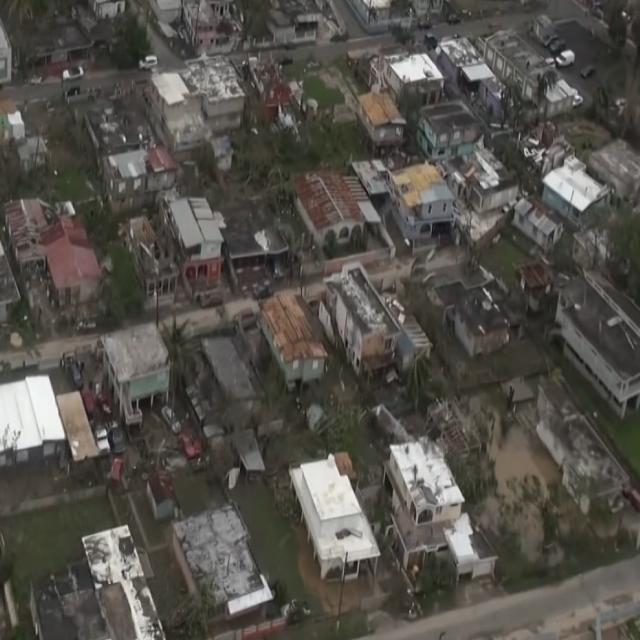flood: (471, 398, 557, 562)
house: (382, 428, 477, 592), (165, 501, 272, 634), (538, 378, 632, 510), (291, 448, 380, 586), (556, 274, 640, 420), (420, 103, 519, 207), (78, 522, 160, 640), (290, 165, 385, 262), (156, 56, 245, 155), (100, 318, 174, 433), (332, 262, 399, 374), (260, 287, 330, 392), (1, 372, 67, 479), (167, 190, 227, 302), (434, 268, 512, 354), (392, 158, 458, 249), (484, 28, 559, 102), (46, 218, 104, 312), (546, 162, 610, 226), (386, 54, 446, 112), (358, 92, 409, 152), (516, 192, 564, 252), (4, 198, 48, 261), (187, 0, 237, 52), (104, 152, 146, 198), (149, 146, 179, 190)
